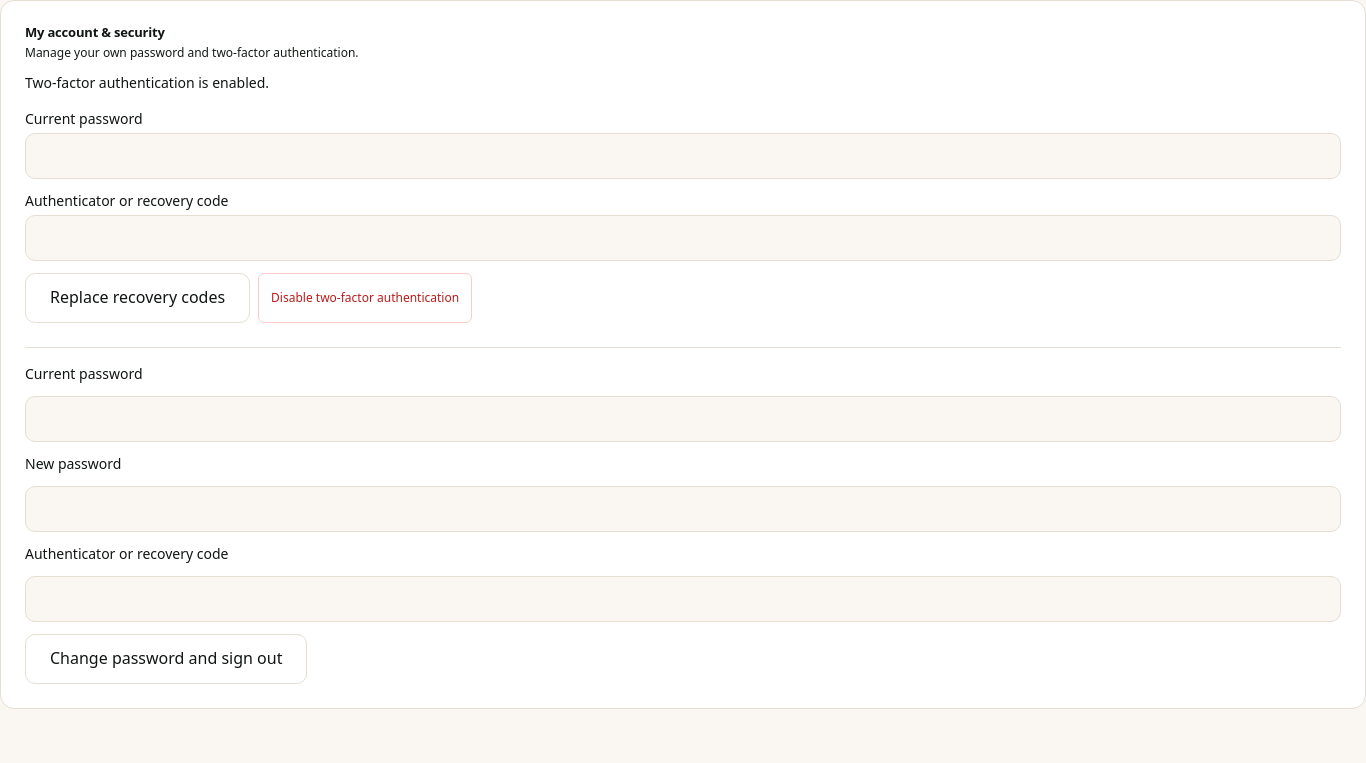
Test case: account and invitation workflows › regenerates recovery codes and disables TOTP with password plus second-factor proof
Later steps or results of the test are not shown.
In the 1st password field labelled "Current password": (683, 156) [25, 133, 1341, 179], type "correct-password"
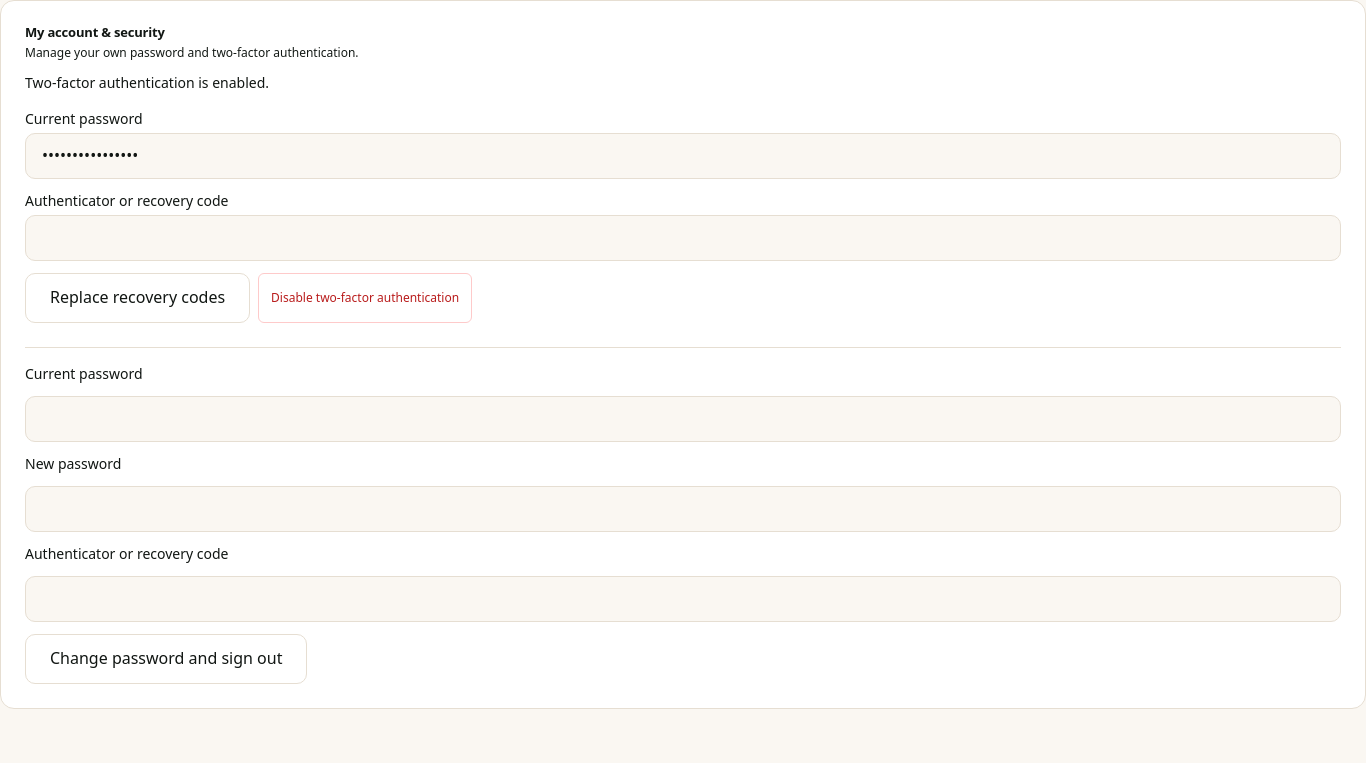
In the 1st field labelled "Authenticator or recovery code": (683, 238) [25, 215, 1341, 261], type "old-recovery"
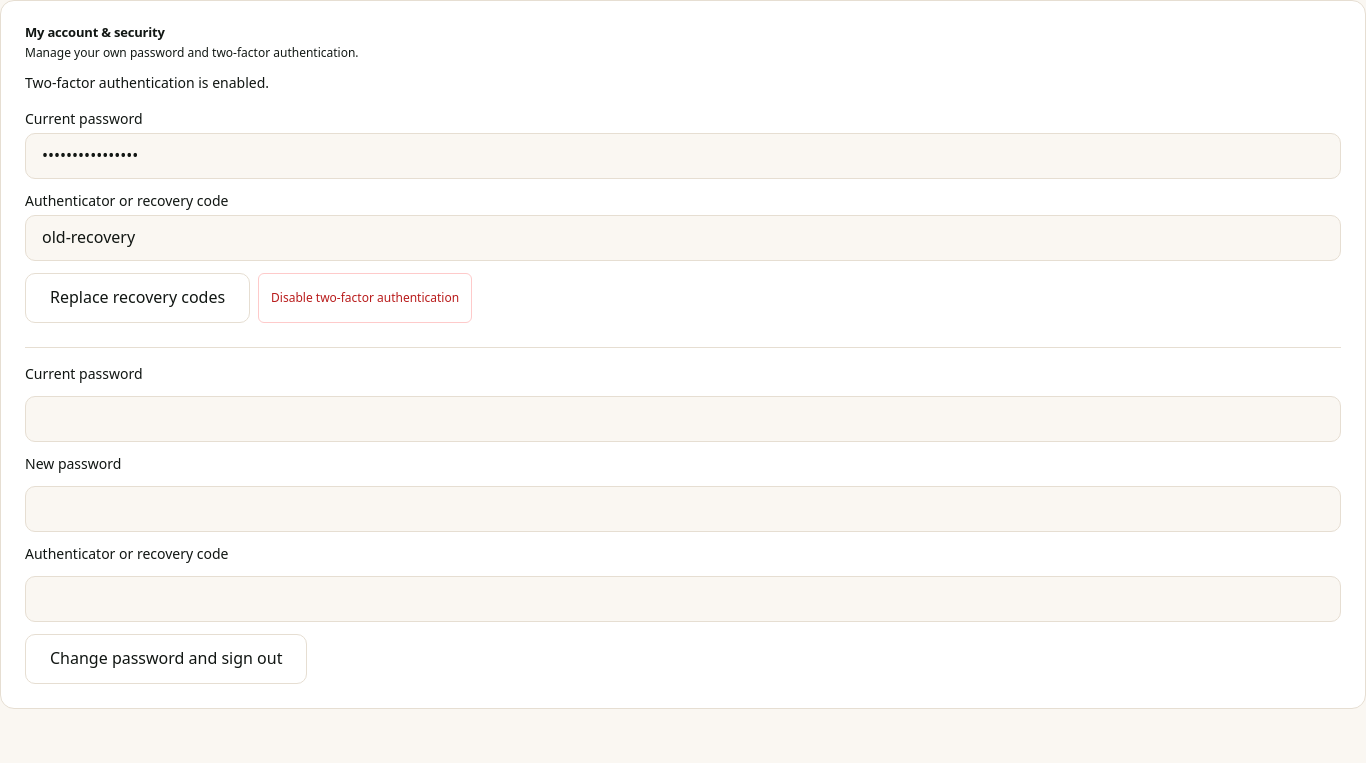
Submit the form named "My account & security", box [25, 109, 1341, 323]
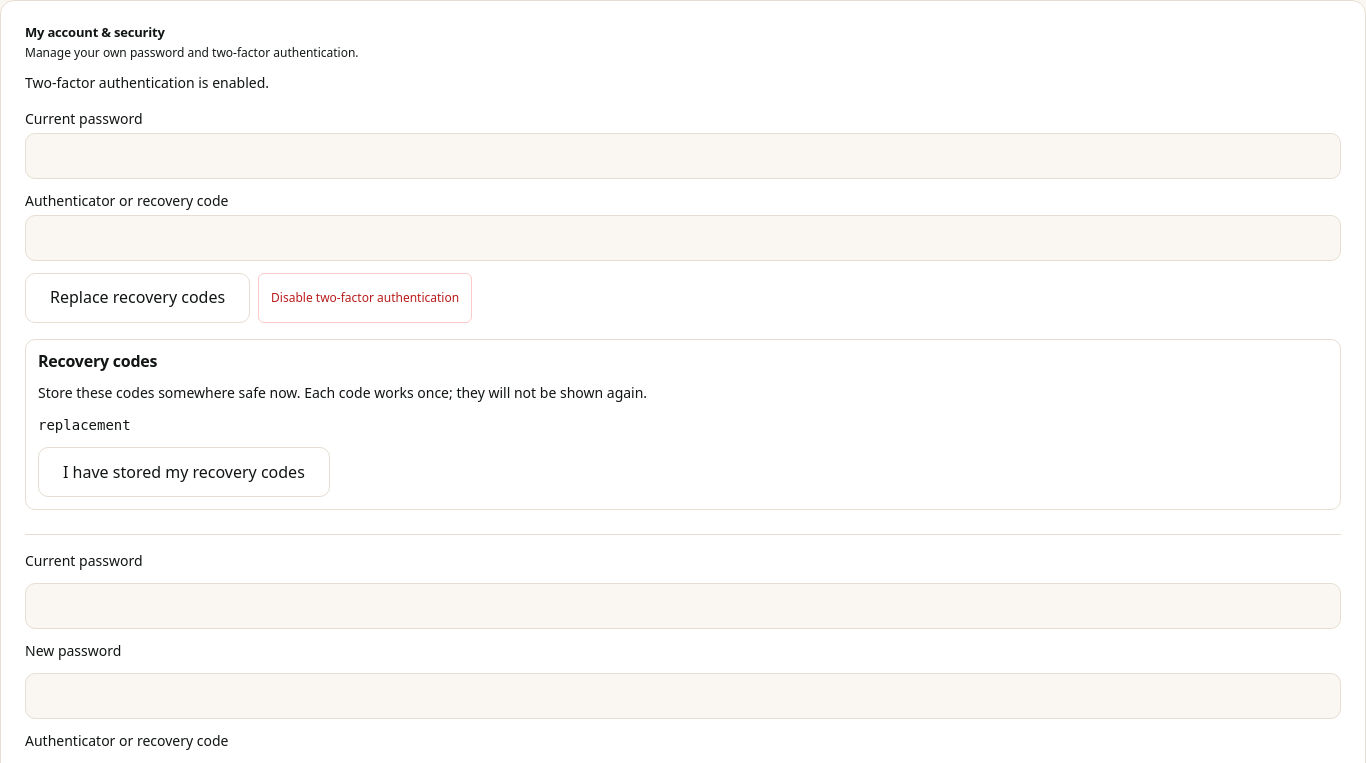
Expected: the list item "replacement" is shown, [38, 417, 131, 433]
